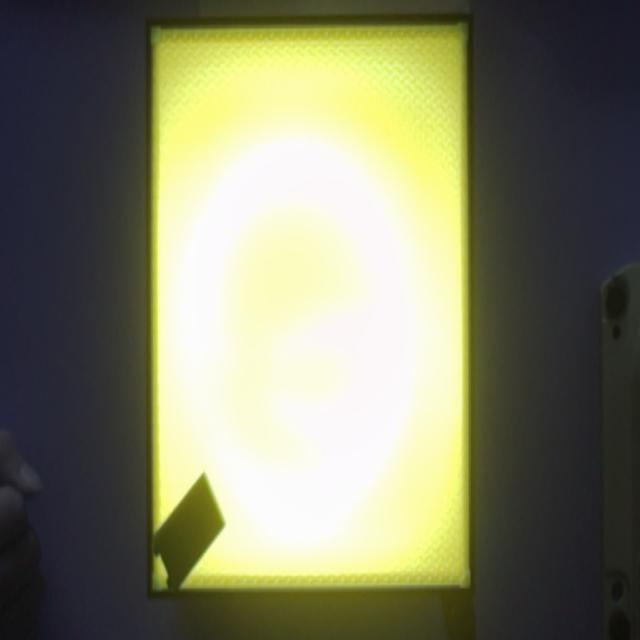bateria: (151, 470, 226, 590)
mesa: (146, 14, 476, 598)
